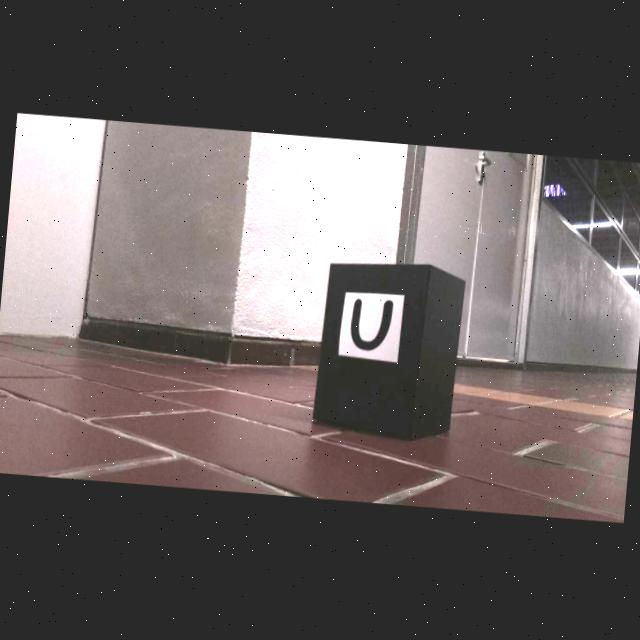U: (351, 299, 393, 351)
